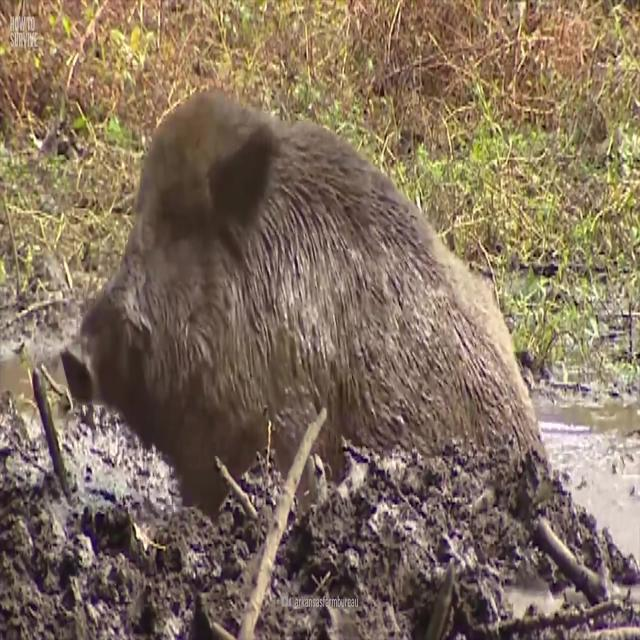pig: (34, 67, 570, 574)
